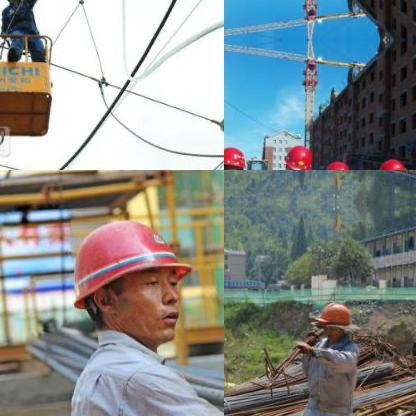Helmet: (58, 203, 202, 351), (310, 296, 352, 340), (281, 142, 316, 169), (224, 142, 248, 169), (373, 155, 411, 169), (322, 158, 352, 169)
